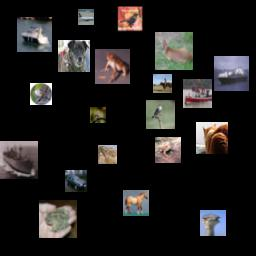airplane: (78, 9, 94, 25)
automobile: (65, 170, 87, 192)
bird: (146, 100, 175, 129), (200, 210, 226, 236), (117, 6, 143, 32), (30, 83, 52, 105), (90, 107, 106, 123)
cat: (196, 122, 228, 154)
deer: (155, 32, 193, 70)
dog: (58, 40, 90, 72)
frog: (39, 200, 77, 238), (95, 49, 130, 84), (155, 137, 181, 163), (98, 145, 117, 164)
ship: (0, 141, 38, 179), (214, 56, 249, 91), (17, 17, 52, 52), (183, 79, 212, 108)
